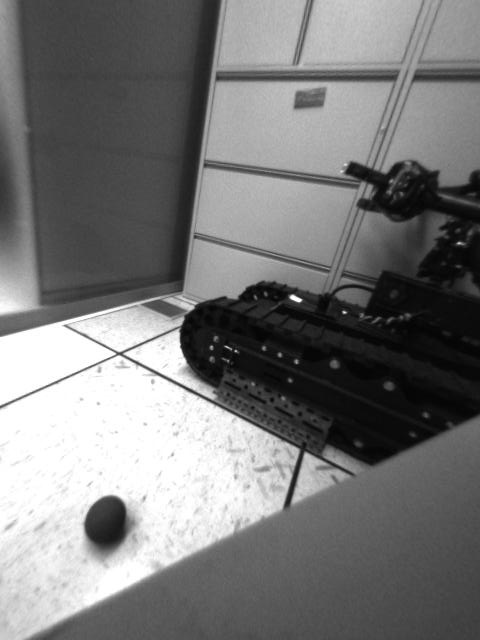dogtoy: (74, 488, 137, 553)
